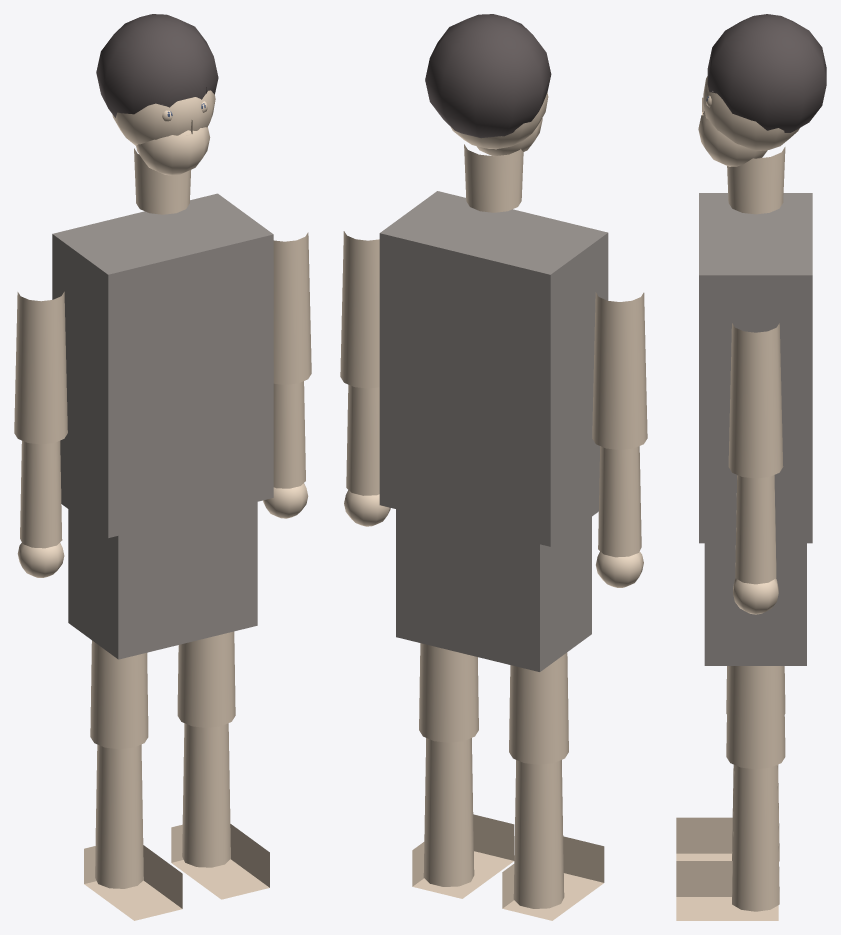
The model's file is body.glb.
The picture shows the model from 3 angles, left to right: view 1: azimuth 30°, elevation 25°; view 2: azimuth 150°, elevation 25°; view 3: azimuth 270°, elevation 25°; orthographic projection. The views are drawn at different scales.
Visible parts, largest first — view 1: Cloth, Skin, Hair; view 2: Cloth, Skin, Hair; view 3: Skin, Cloth, Hair.
Part boxes in pixels (x1,y1,x2,y2): Cloth: (52,193,273,659); Skin: (14,90,311,920); Hair: (96,14,218,117); Cloth: (379,191,608,671); Skin: (340,92,647,920); Hair: (425,14,551,138); Skin: (676,76,799,920); Cloth: (699,193,812,665); Hair: (707,14,826,132).
Bounding box in the file's own units: 0.5997 × 1.68 × 0.2646.
